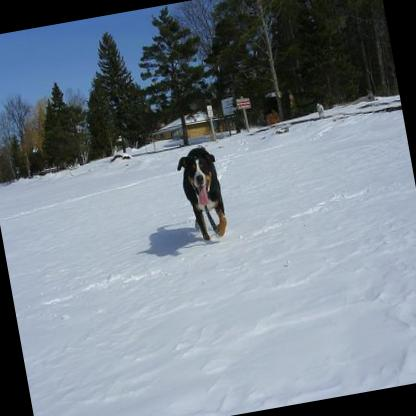Greater_Swiss_Mountain_dog: (172, 144, 229, 244)
